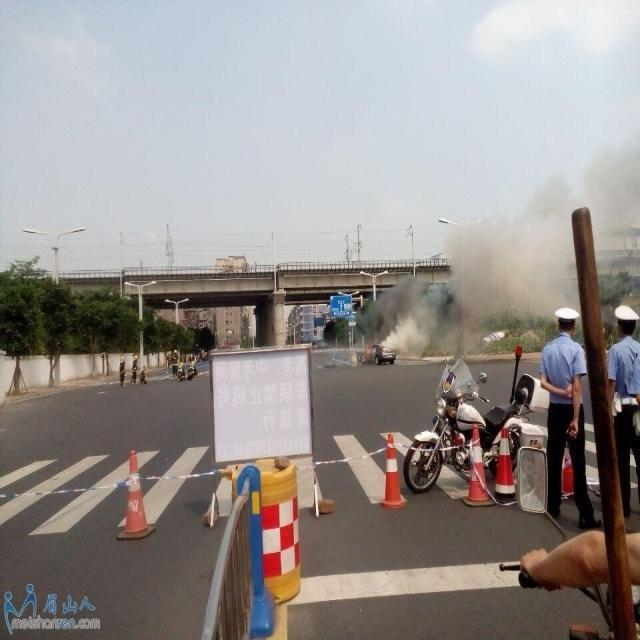Smoke: (357, 142, 640, 359)
